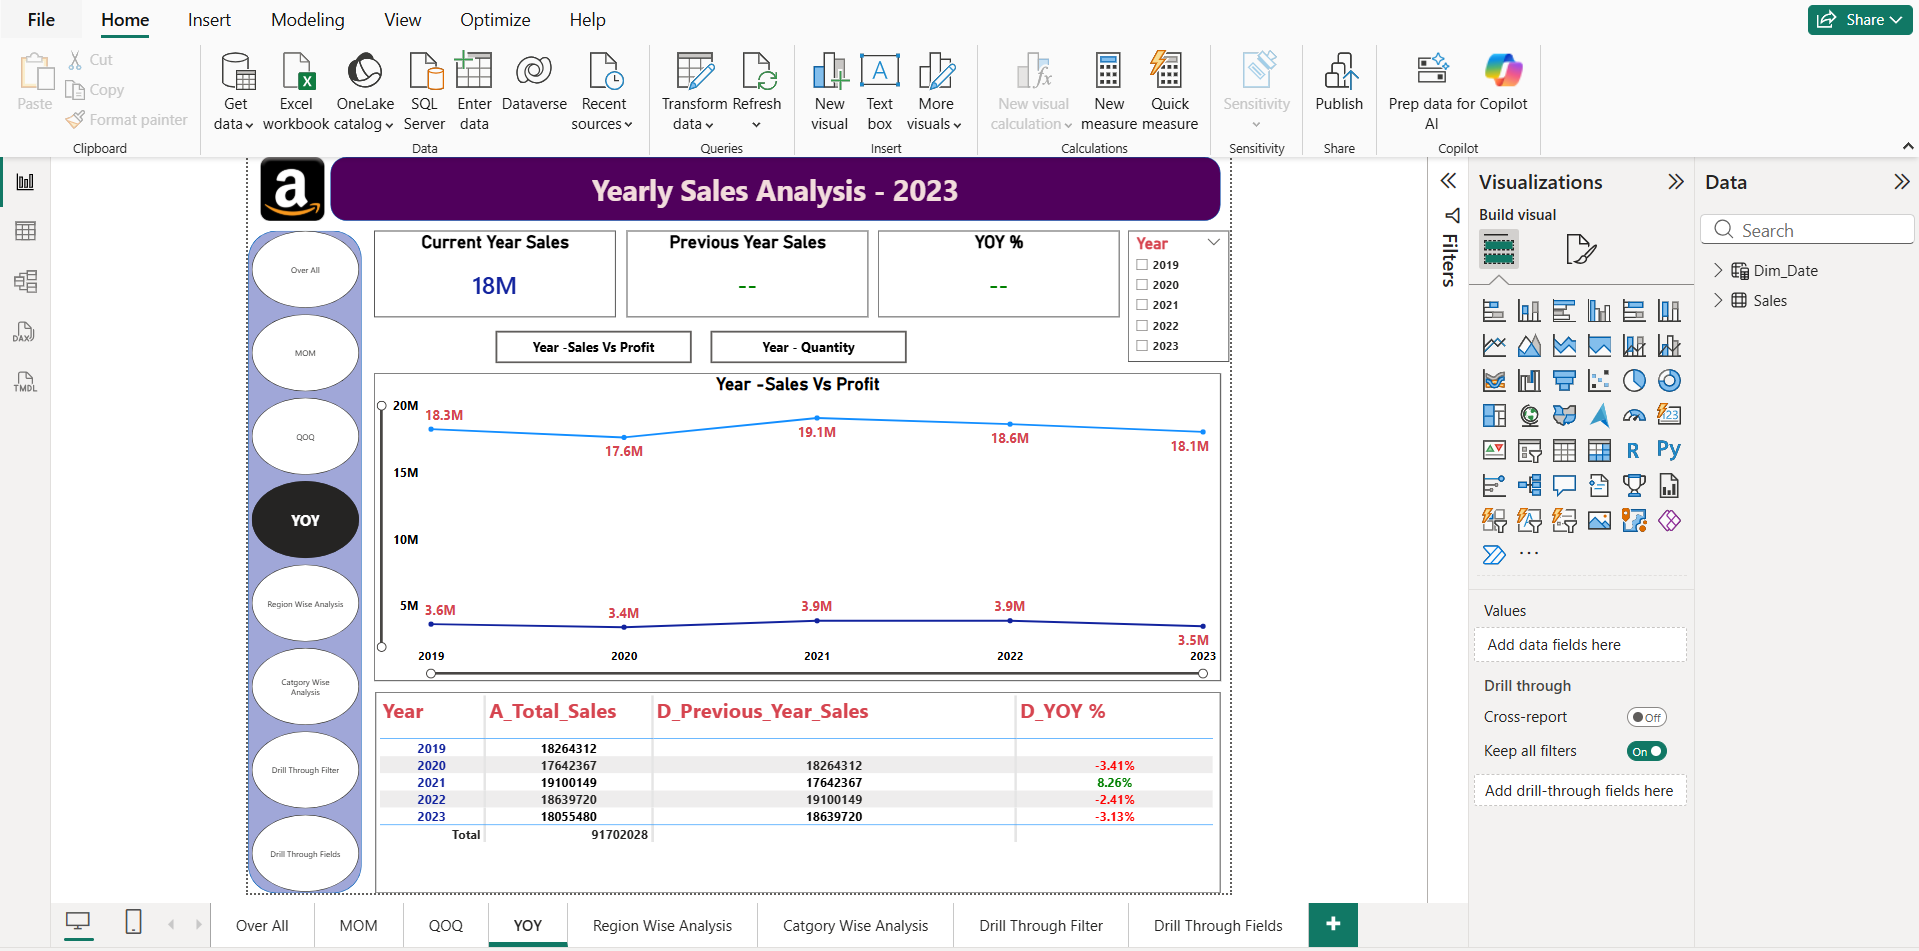

The dashboard page shown, as its layout file describes it:
{"tool":"powerbi","page":{"name":"YOY","canvas":[1600,1200],"ordinal":3},"visuals":[{"type":"image","box":[10.2,0,124.3,103.9],"z":0},{"type":"shape","box":[134.5,0,1451.1,103.9],"z":1000},{"type":"shape","box":[0,119.8,185.5,1080.2],"z":2000},{"type":"cardVisual","title":"Current Year Sales","fields":{"Data":["Sales.D_Current_Year_Sales"]},"box":[205.8,120.2,393.3,140.6],"z":3000},{"type":"cardVisual","title":"Previous Year Sales","fields":{"Data":["Sales.D_Previous_Year_Sales"]},"box":[617.5,120.2,393.3,140.6],"z":4000},{"type":"cardVisual","title":"YOY %","fields":{"Data":["Sales.D_YOY %"]},"box":[1027.2,120.2,393.3,140.6],"z":5000},{"type":"lineChart","title":"Year -Sales Vs Profit","fields":{"Y":["Sales.A_Total_Sales","Sales.A_Total_Profit"],"Category":["Dim_Date.Year"]},"box":[205.8,352.6,1379.8,501.4],"z":6000},{"type":"actionButton","box":[754.1,283.3,320,53],"z":8000},{"type":"actionButton","box":[403.5,283.3,320,53],"z":9000},{"type":"tableEx","fields":{"Values":["Dim_Date.Year","Sales.A_Total_Sales","Sales.D_Previous_Year_Sales","Sales.D_YOY %"]},"box":[207.9,872.3,1377.7,328.1],"z":10000},{"type":"slicer","fields":{"Values":["Dim_Date.Year"]},"box":[1434.8,120.2,165.1,214],"z":11000},{"type":"pageNavigator","box":[6.1,120.2,175.3,1080.2],"z":12000}]}

Visuals, with their boxes on the page's 1600x1200 design canvas (x1, y1, x2, y2). These are canvas units, not pixel positions in the 1919x951 screenshot, which may show the page scaled, cropped or inside an application window:
image: locate(10, 0, 134, 104)
shape: locate(134, 0, 1586, 104)
shape: locate(0, 120, 186, 1200)
"Current Year Sales" cardVisual: locate(206, 120, 599, 261)
"Previous Year Sales" cardVisual: locate(618, 120, 1011, 261)
"YOY %" cardVisual: locate(1027, 120, 1420, 261)
"Year -Sales Vs Profit" lineChart: locate(206, 353, 1586, 854)
actionButton: locate(754, 283, 1074, 336)
actionButton: locate(404, 283, 724, 336)
tableEx - Dim_Date.Year x Sales.A_Total_Sales: locate(208, 872, 1586, 1200)
slicer - Dim_Date.Year: locate(1435, 120, 1600, 334)
pageNavigator: locate(6, 120, 181, 1200)
